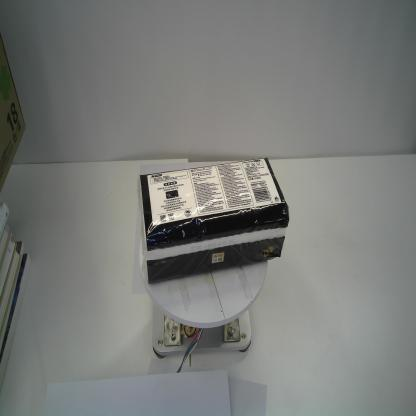Tissue: (137, 154, 293, 285)
